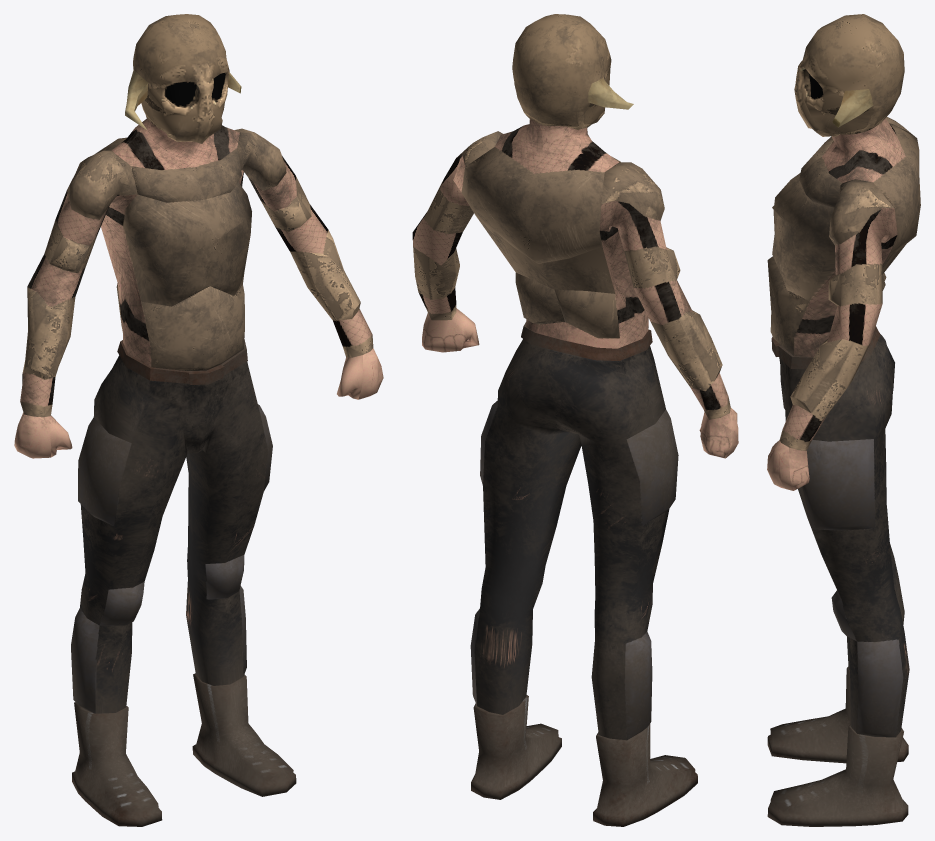
File: Anim_idle_npc1.0052.obj
The picture shows the model from 3 angles, left to right: view 1: azimuth 30°, elevation 25°; view 2: azimuth 150°, elevation 25°; view 3: azimuth 270°, elevation 25°; orthographic projection.
Parts seen in each view (by area): view 1: NPC2; view 2: NPC2; view 3: NPC2.
Part boxes in pixels (x1,y1,x2,y2): NPC2: [14, 14, 383, 826]; NPC2: [412, 14, 738, 826]; NPC2: [767, 14, 920, 826].
Size of the model in its own units: 4.45 by 9.66 by 1.75.
